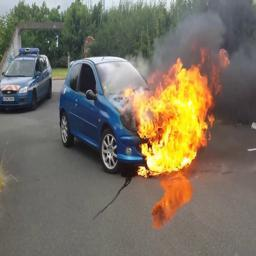fire: (126, 43, 232, 176)
